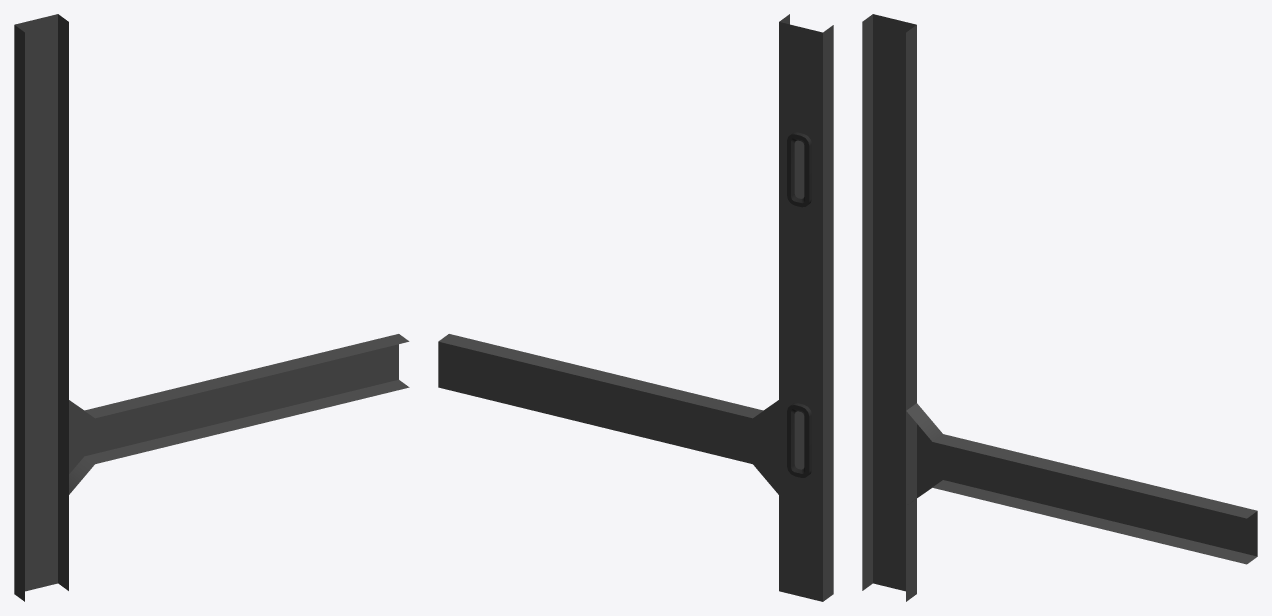
File: SM_cable_left_01.fbx
The picture shows the model from 3 angles, left to right: view 1: azimuth 30°, elevation 25°; view 2: azimuth 150°, elevation 25°; view 3: azimuth 330°, elevation 25°; orthographic projection.
Visible parts, largest first — view 1: SM_cable_left_01; view 2: SM_cable_left_01; view 3: SM_cable_left_01.
Part boxes in pixels (x1=…): SM_cable_left_01: x1=14, y1=14, x2=409, y2=601; SM_cable_left_01: x1=438, y1=14, x2=833, y2=601; SM_cable_left_01: x1=862, y1=14, x2=1257, y2=601.
Bounding box in the file's own units: 212 × 300 × 12.76.
Materials: 2 (2 with a texture image).
